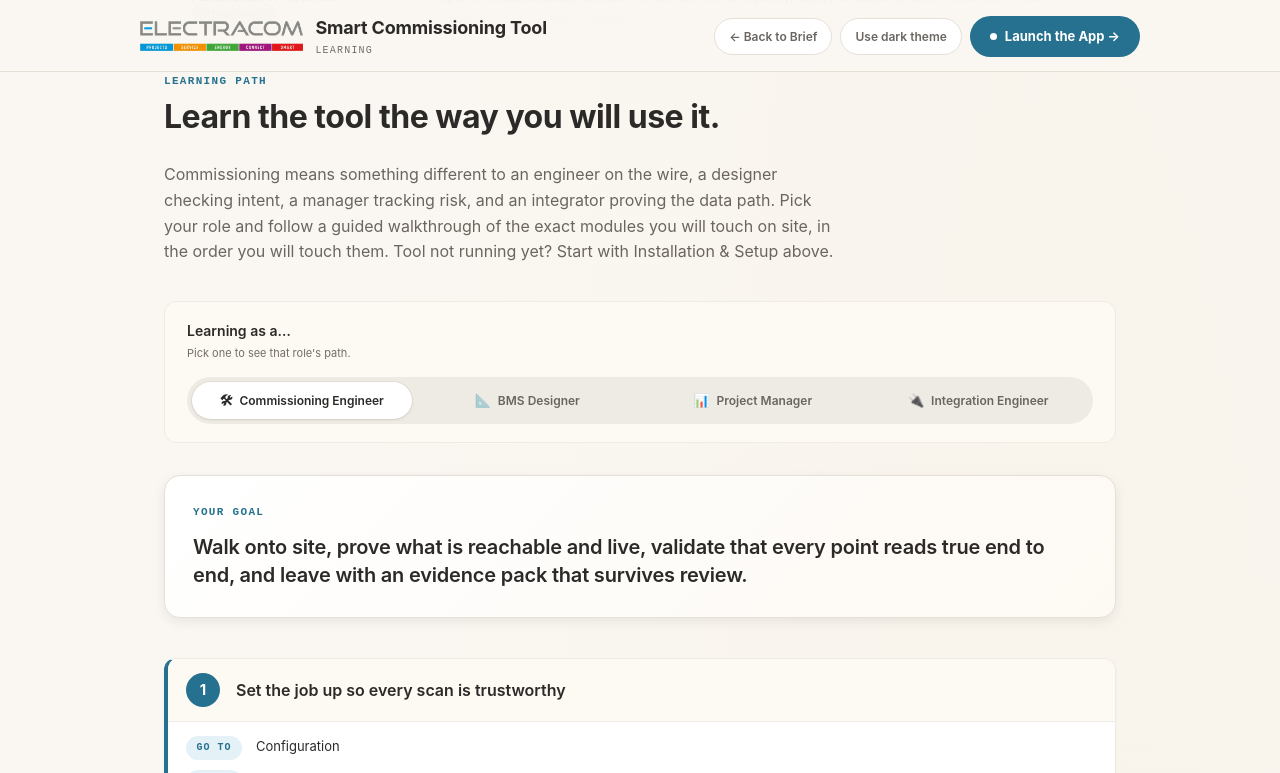
Test: LearningPage — role walkthroughs › renders the Commissioning Engineer path by default and swaps on role change
This screenshot has width=1280, height=773.
(page scrolled)
Expected: the button "🛠 Commissioning Engineer" is shown, [192,382,412,419]
Click the button "📐 BMS Designer" at (527, 400), box [418,382,637,419]
(page scrolled)
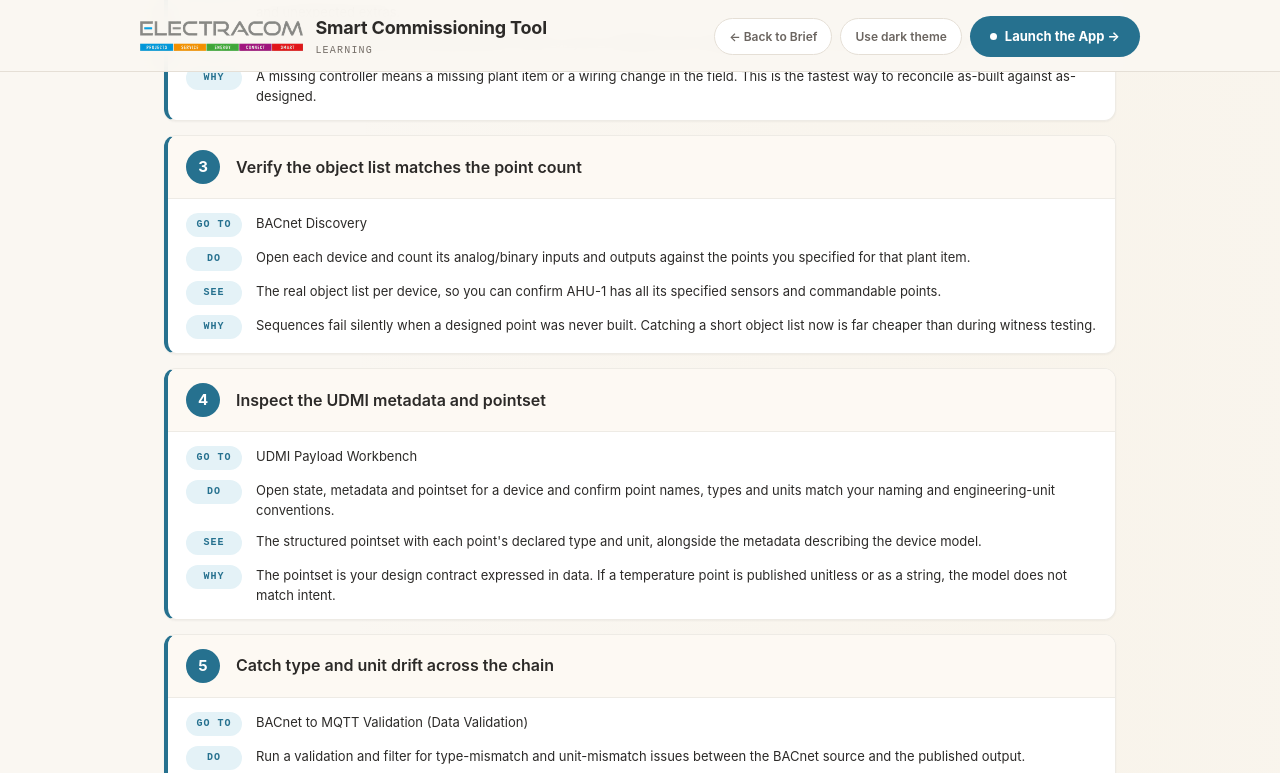
Now the text "Inspect the UDMI metadata and pointset" is shown, box [236,388,546,413]
